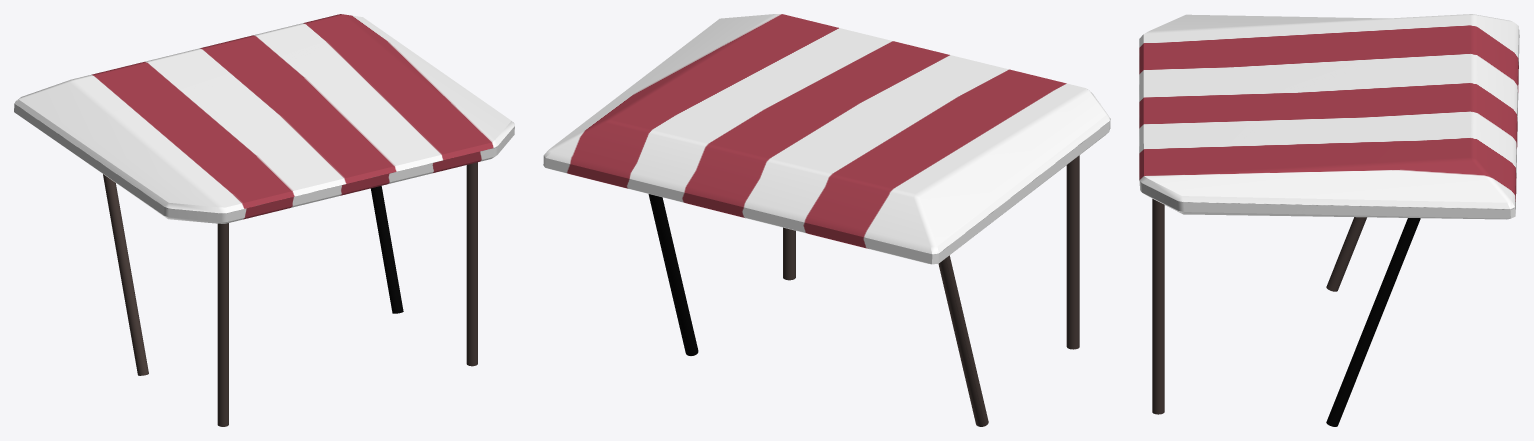
The model's file is foodstall.fbx.
3 views of the same model, side by side, from view 1: azimuth 30°, elevation 25°; view 2: azimuth 150°, elevation 25°; view 3: azimuth 270°, elevation 25° (orthographic). The views are drawn at different scales.
Visible parts, largest first — view 1: Store; view 2: Store; view 3: Store.
Boxes of the visible parts, box(x1,y1,x2,y2) form: Store: box(14, 14, 514, 426); Store: box(543, 14, 1110, 426); Store: box(1139, 14, 1519, 426).
Size of the model in its own units: 15.17 by 10.4 by 13.16.
